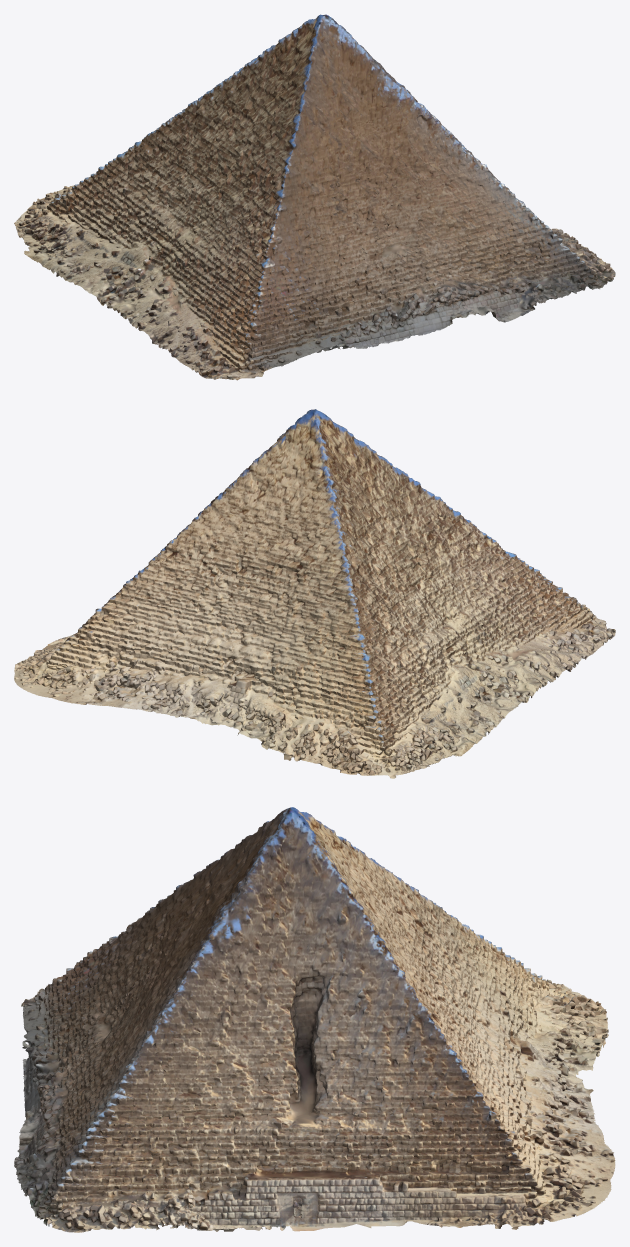
The model's file is pyramid_of_menkaure_giza_pyramid_complex_egypt.glb.
The picture shows the model from 3 angles, top to bottom: view 1: azimuth 30°, elevation 25°; view 2: azimuth 150°, elevation 25°; view 3: azimuth 270°, elevation 25°; orthographic projection. The views are drawn at different scales.
Visible parts, largest first — view 1: Geode; view 2: Geode; view 3: Geode.
Boxes of the visible parts, x1,y1,x2,y2 form: Geode: (14,14,615,380); Geode: (14,409,615,778); Geode: (14,807,615,1232).
Size of the model in its own units: 90.35 by 49.67 by 88.28.
1 material, 1 textured.
